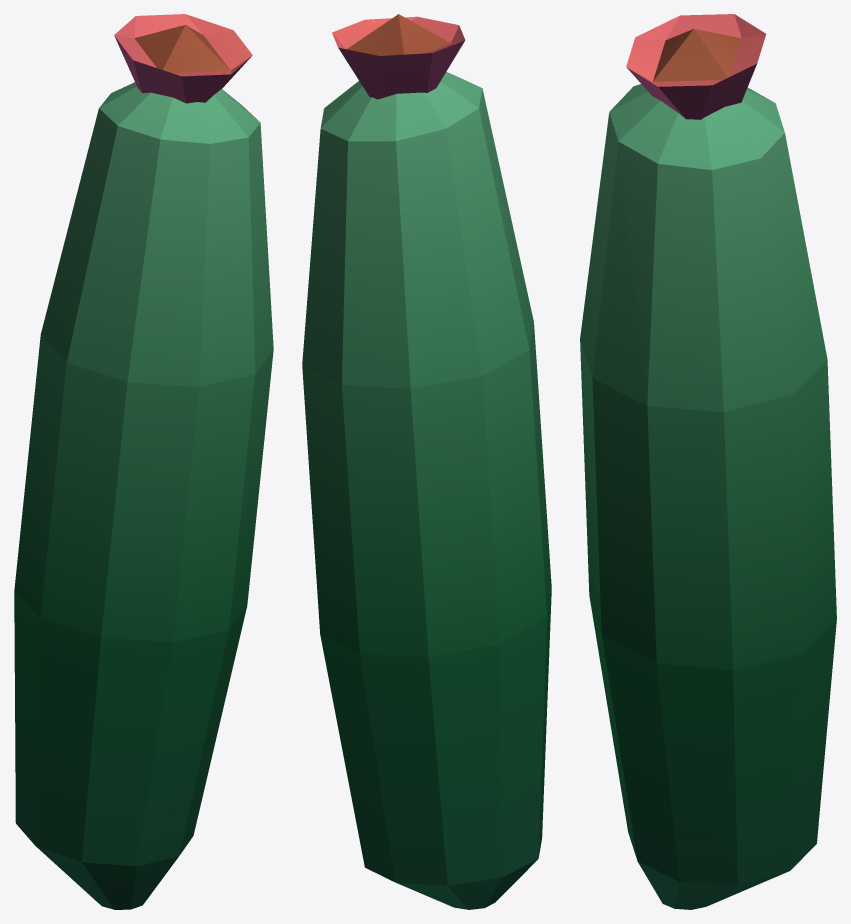
File: Desert_Plant_06_Small_0_1.fbx
3 renders of one model, left to right at view 1: azimuth 30°, elevation 25°; view 2: azimuth 150°, elevation 25°; view 3: azimuth 270°, elevation 25°, orthographic. The views are drawn at different scales.
Parts seen in each view (by area): view 1: Desert_plant_014.001; view 2: Desert_plant_014.001; view 3: Desert_plant_014.001.
Part boxes in pixels (x1,y1,x2,y2): Desert_plant_014.001: (14,14,273,909); Desert_plant_014.001: (302,14,551,909); Desert_plant_014.001: (580,14,836,909).
Size of the model in its own units: 44.59 by 164 by 42.32.
